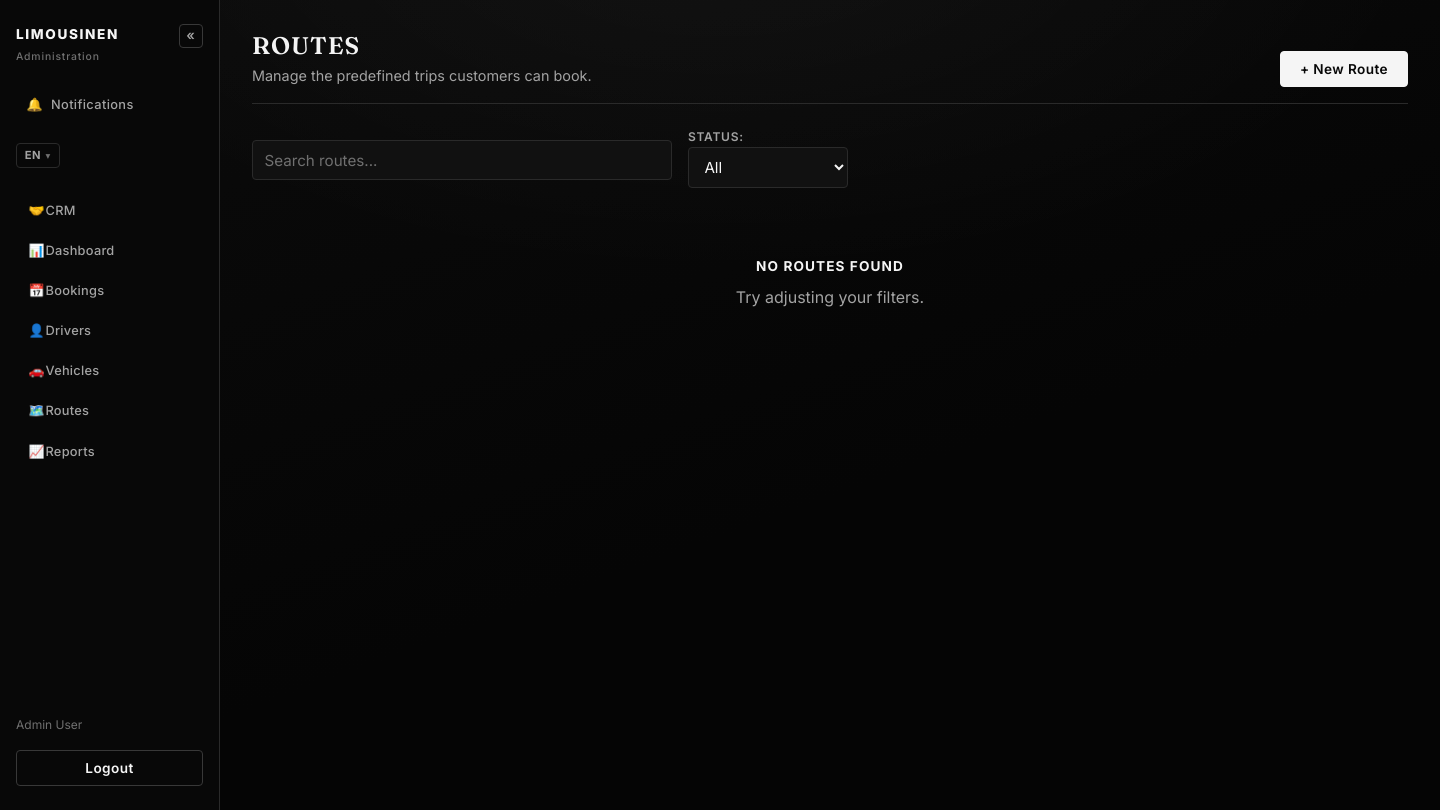
it: RoutesPage › rejects an empty create-route form client-side
Check: the text "No Routes Found" is shown, box [756,258,904,274]
Click the button "+ New Route" at (1344, 69), box [1280,52,1408,87]
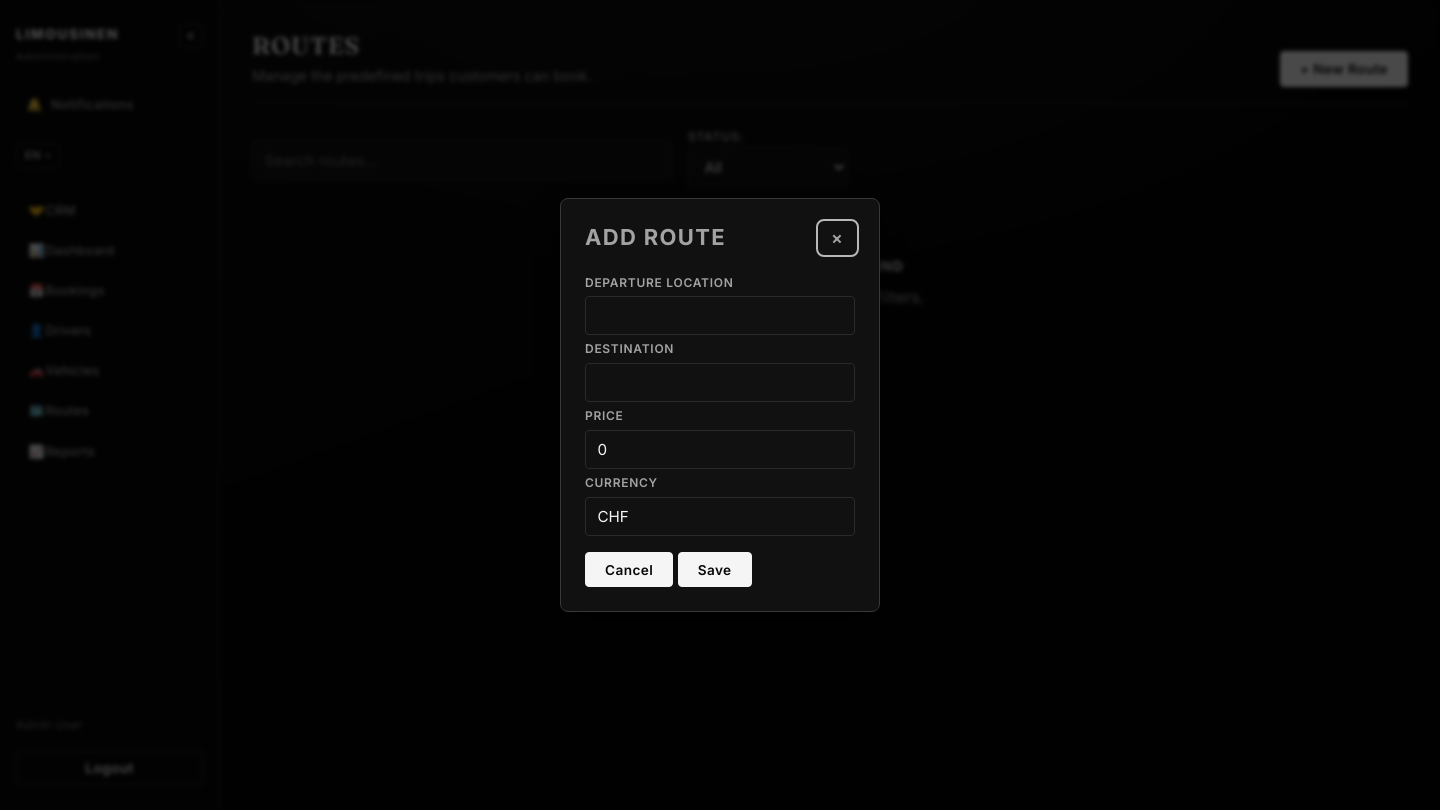
Click the button "Save" at (715, 570), box [678,552,752,588]
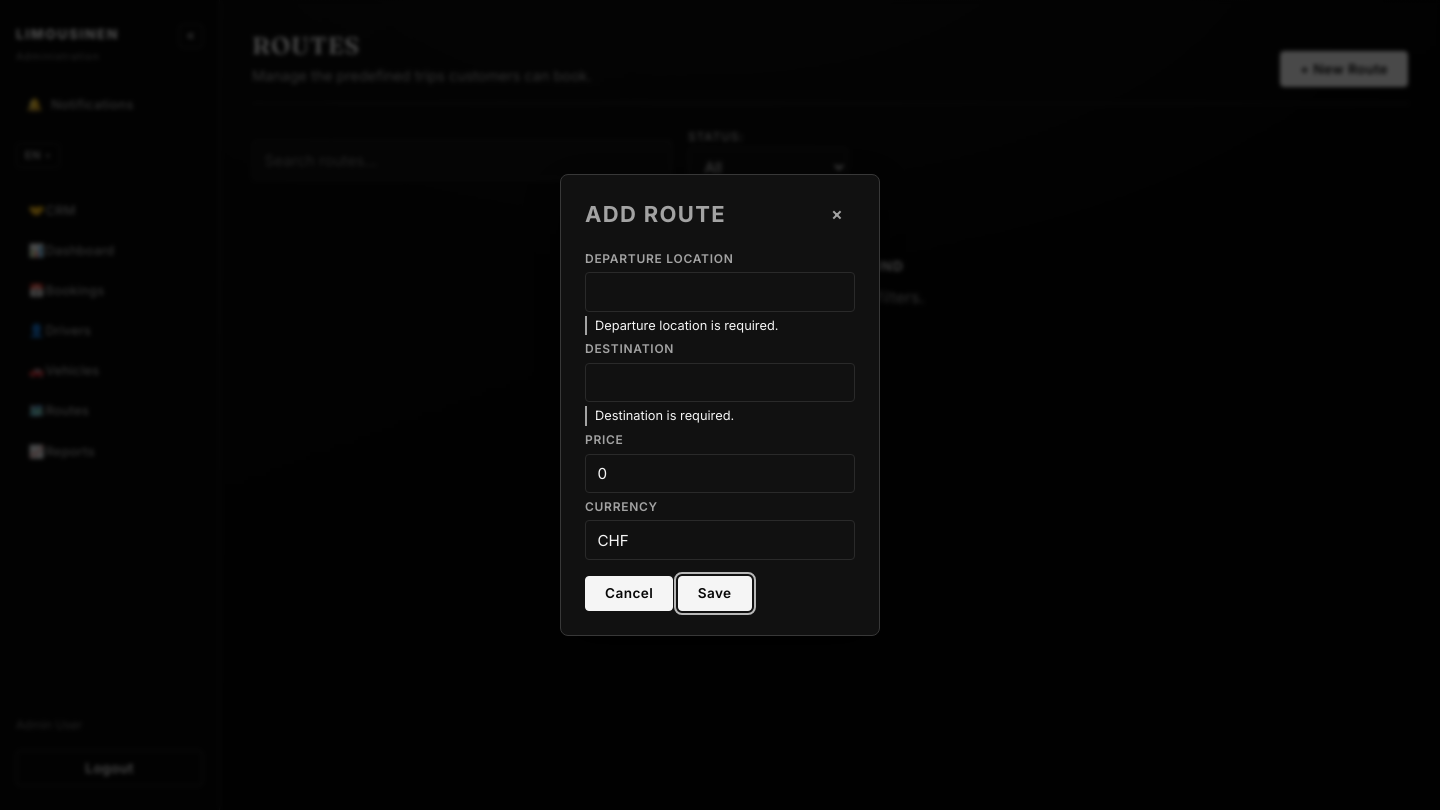
Check: the text "Departure location is required." is shown, box [585,316,855,335]
